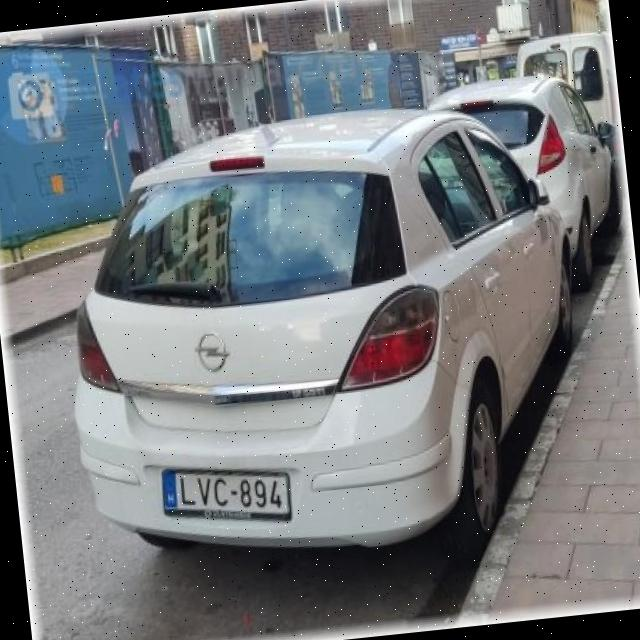licence: (155, 449, 295, 536)
